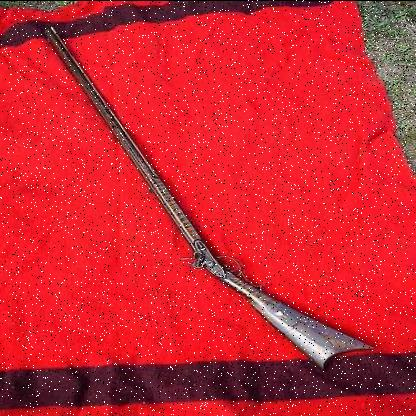rifle: (30, 14, 392, 374)
